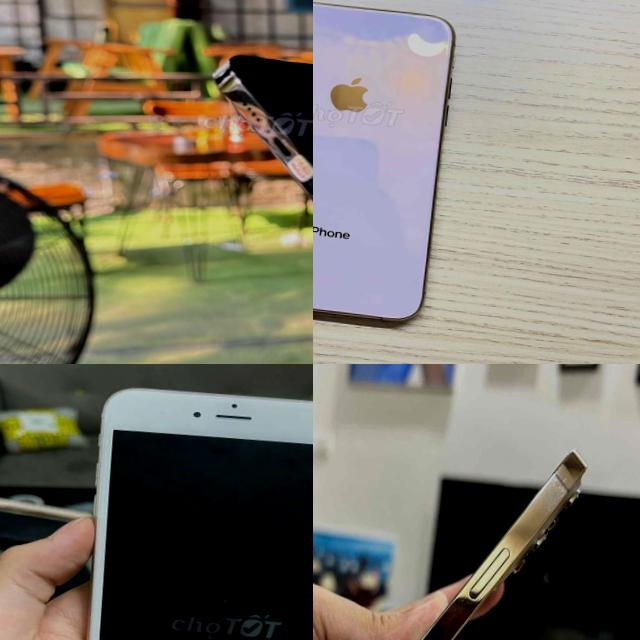scratch: (538, 464, 578, 524)
